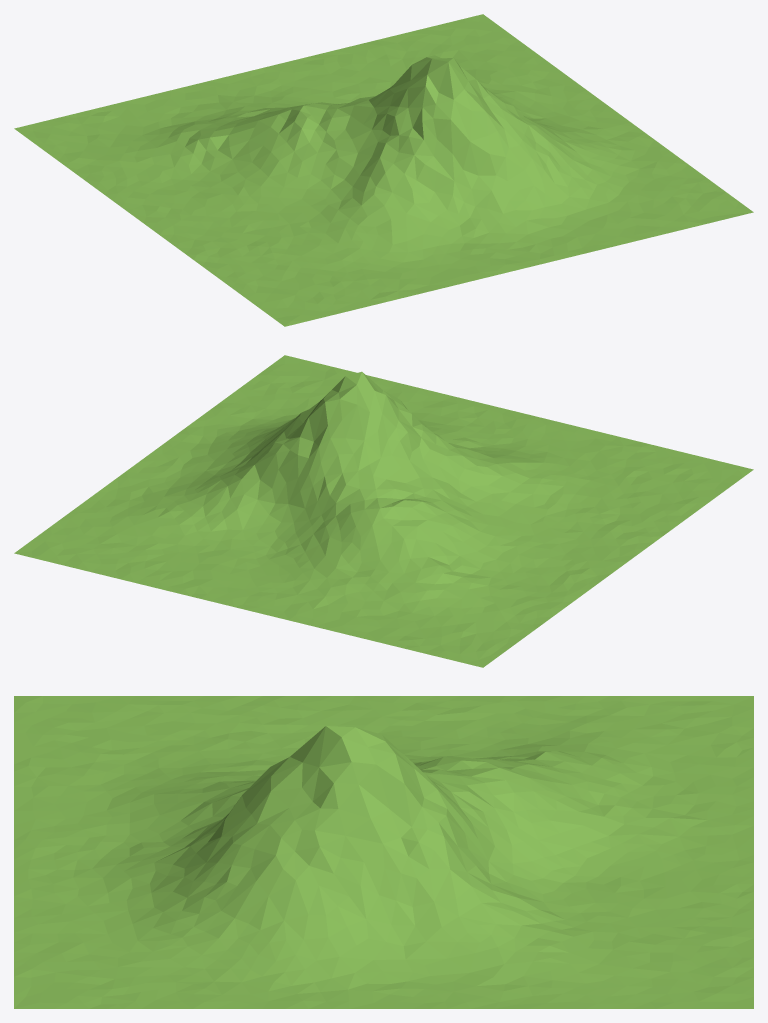
Rendered from MT_Terrain_L_a_45.fbx.
3 renders of one model, top to bottom at view 1: azimuth 30°, elevation 25°; view 2: azimuth 150°, elevation 25°; view 3: azimuth 270°, elevation 25°, orthographic. The views are drawn at different scales.
Visible parts, largest first — view 1: MT_Terrain_L_a_45; view 2: MT_Terrain_L_a_45; view 3: MT_Terrain_L_a_45.
Boxes of the visible parts, left/top/right/bottom form: MT_Terrain_L_a_45: left=14, top=14, right=753, bottom=326; MT_Terrain_L_a_45: left=14, top=355, right=753, bottom=667; MT_Terrain_L_a_45: left=14, top=696, right=753, bottom=1008.
Bounding box in the file's own units: 10000 × 2324 × 10000.
